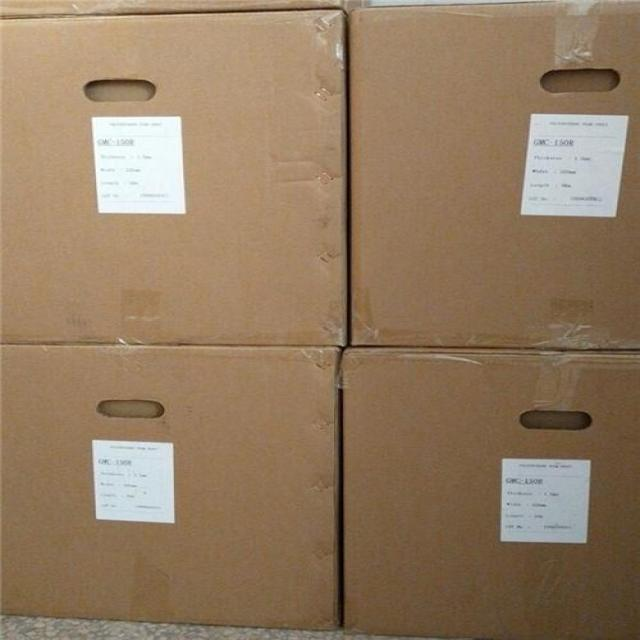box: (0, 10, 349, 345), (346, 0, 640, 348), (0, 344, 340, 632), (340, 348, 640, 640), (0, 0, 374, 20)
